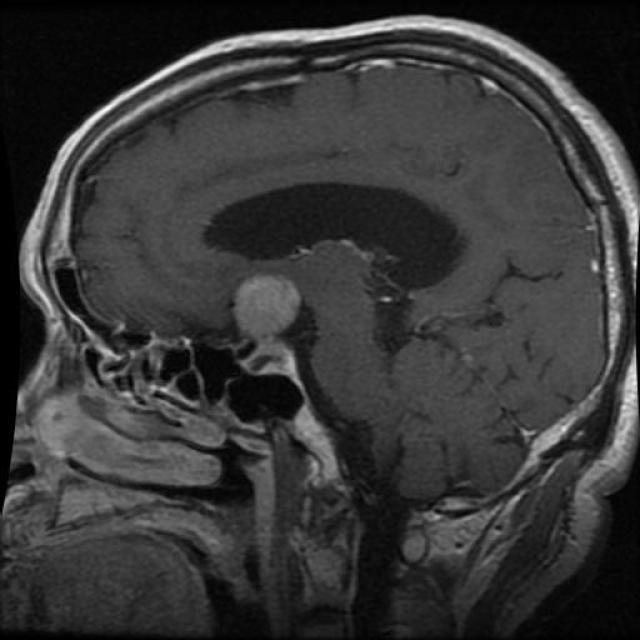pituitary: (224, 267, 314, 377)
